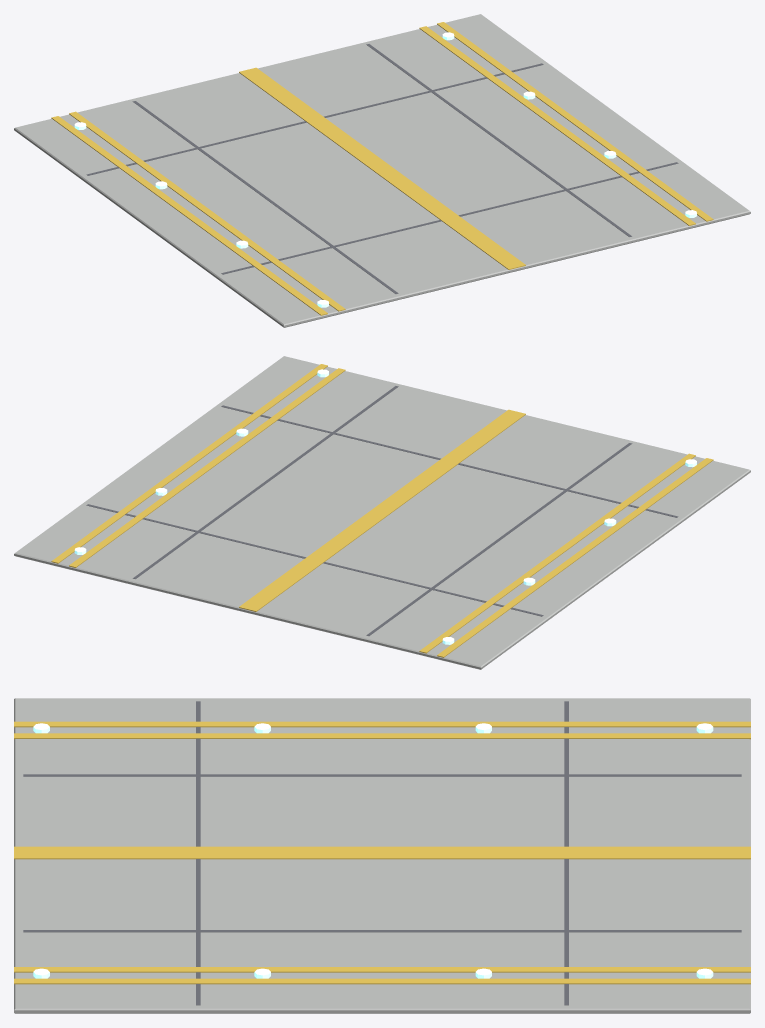
The model's file is airport-terminal-and-ground-operations-taxiway-tile-0962b0b4__26077.glb.
3 views of the same model, one above another, from view 1: azimuth 30°, elevation 25°; view 2: azimuth 150°, elevation 25°; view 3: azimuth 270°, elevation 25° (orthographic). The views are drawn at different scales.
Parts seen in each view (by area): view 1: taxiway-tile; view 2: taxiway-tile; view 3: taxiway-tile.
Boxes of the visible parts, x1,y1,x2,y2 form: taxiway-tile: (14,14,750,327); taxiway-tile: (14,356,750,669); taxiway-tile: (14,698,750,1013).
Size of the model in its own units: 8 by 0.1096 by 8.
